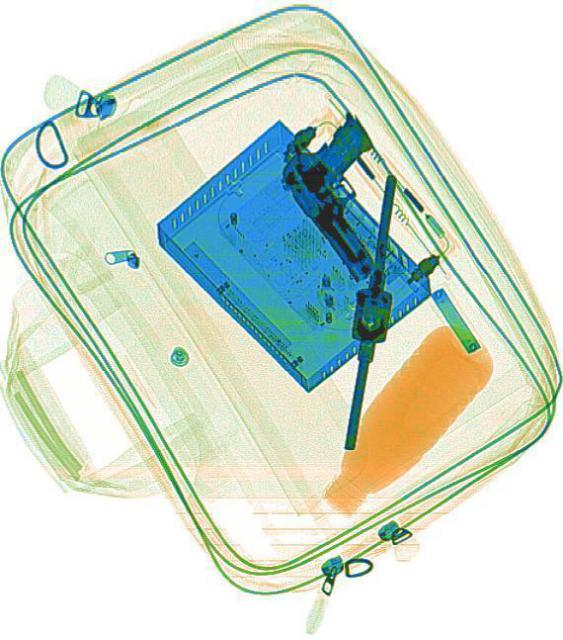Gun: (270, 106, 433, 284)
